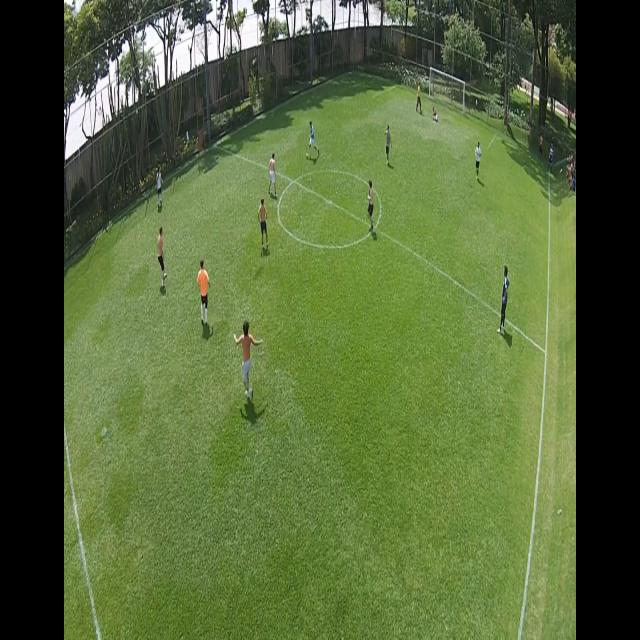humans: (232, 316, 264, 404), (196, 253, 212, 329), (254, 190, 270, 257), (499, 260, 512, 340), (154, 218, 168, 289), (364, 172, 377, 241), (382, 117, 396, 177), (306, 116, 320, 169), (268, 150, 280, 199), (473, 134, 483, 185), (414, 76, 425, 121)
